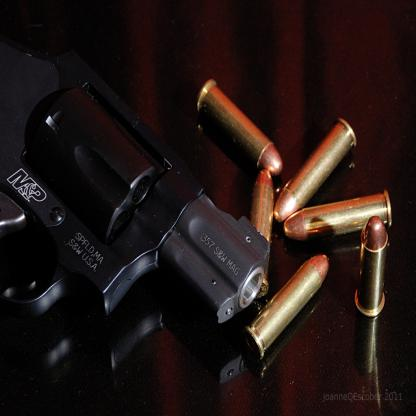Handgun: (0, 36, 270, 384)
